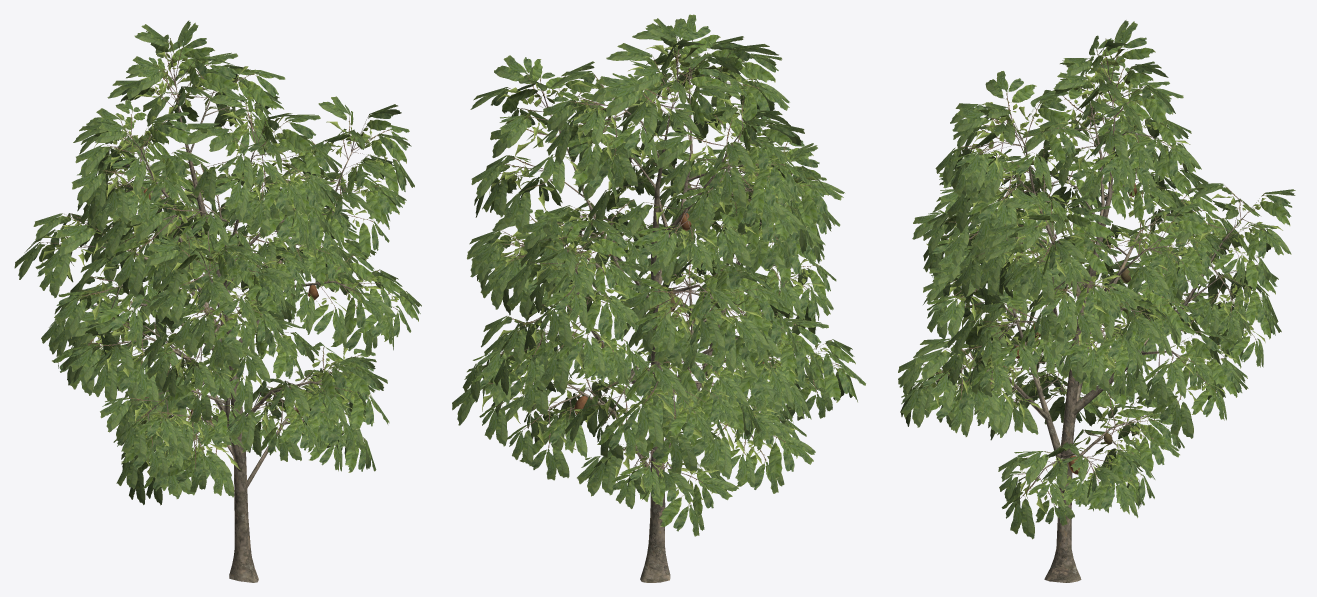
File: Cupuacu_Tree01_afsTREE_xlprl.fbx
3 renders of one model, left to right at view 1: azimuth 30°, elevation 25°; view 2: azimuth 150°, elevation 25°; view 3: azimuth 270°, elevation 25°, orthographic. The views are drawn at different scales.
Parts seen in each view (by area): view 1: trunk_xw12_xt12, leaf01.159, leaf01.229, leaf01.114, leaf01.126, leaf01.131, leaf01.411, leaf01.404, leaf01.147, leaf01.239, leaf01.360, leaf01.154 (+77 smaller); view 2: trunk_xw12_xt12, leaf01.070, leaf01.068, leaf01.170, leaf01.120, leaf01.123, leaf01.370, leaf01.385, leaf01.423, leaf01.175, leaf01.044, leaf01.042 (+104 smaller); view 3: trunk_xw12_xt12, leaf01.204, leaf01.081, leaf01.017, leaf01.214, leaf01.203, leaf01.096, leaf01.273, leaf01.090_xw02_xp10, leaf01.202, leaf01.007, leaf01.223 (+65 smaller).
Boxes of the visible parts, x1=… form: trunk_xw12_xt12: x1=175, y1=77, x2=258, y2=582; leaf01.159: x1=110, y1=224, x2=168, y2=297; leaf01.229: x1=335, y1=281, x2=396, y2=334; leaf01.114: x1=54, y1=286, x2=118, y2=338; leaf01.126: x1=95, y1=285, x2=150, y2=352; leaf01.131: x1=117, y1=340, x2=167, y2=407; leaf01.411: x1=130, y1=198, x2=199, y2=242; leaf01.404: x1=215, y1=172, x2=260, y2=222; leaf01.147: x1=164, y1=356, x2=218, y2=423; leaf01.239: x1=301, y1=284, x2=346, y2=349; leaf01.360: x1=196, y1=313, x2=240, y2=370; leaf01.154: x1=213, y1=66, x2=285, y2=109; trunk_xw12_xt12: x1=640, y1=76, x2=679, y2=582; leaf01.070: x1=613, y1=381, x2=676, y2=449; leaf01.068: x1=646, y1=390, x2=702, y2=474; leaf01.170: x1=528, y1=324, x2=586, y2=395; leaf01.120: x1=738, y1=355, x2=796, y2=409; leaf01.123: x1=710, y1=302, x2=770, y2=356; leaf01.370: x1=698, y1=134, x2=757, y2=208; leaf01.385: x1=584, y1=285, x2=635, y2=334; leaf01.423: x1=634, y1=294, x2=688, y2=356; leaf01.175: x1=623, y1=363, x2=689, y2=403; leaf01.044: x1=690, y1=423, x2=746, y2=479; leaf01.042: x1=754, y1=427, x2=815, y2=479; trunk_xw12_xt12: x1=1044, y1=79, x2=1115, y2=582; leaf01.204: x1=1011, y1=236, x2=1066, y2=305; leaf01.081: x1=1151, y1=371, x2=1202, y2=438; leaf01.017: x1=1001, y1=476, x2=1046, y2=539; leaf01.214: x1=966, y1=177, x2=1028, y2=240; leaf01.203: x1=1077, y1=274, x2=1141, y2=328; leaf01.096: x1=982, y1=71, x2=1036, y2=135; leaf01.273: x1=927, y1=287, x2=980, y2=338; leaf01.090_xw02_xp10: x1=1105, y1=20, x2=1155, y2=83; leaf01.202: x1=1029, y1=284, x2=1085, y2=336; leaf01.007: x1=1088, y1=466, x2=1138, y2=517; leaf01.223: x1=951, y1=143, x2=1003, y2=190.
Size of the model in its own units: 4.27 by 6.52 by 4.58.
